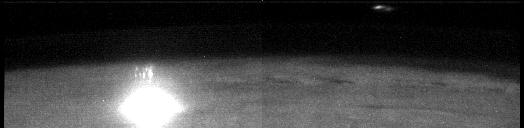positive: (133, 64, 156, 85)
